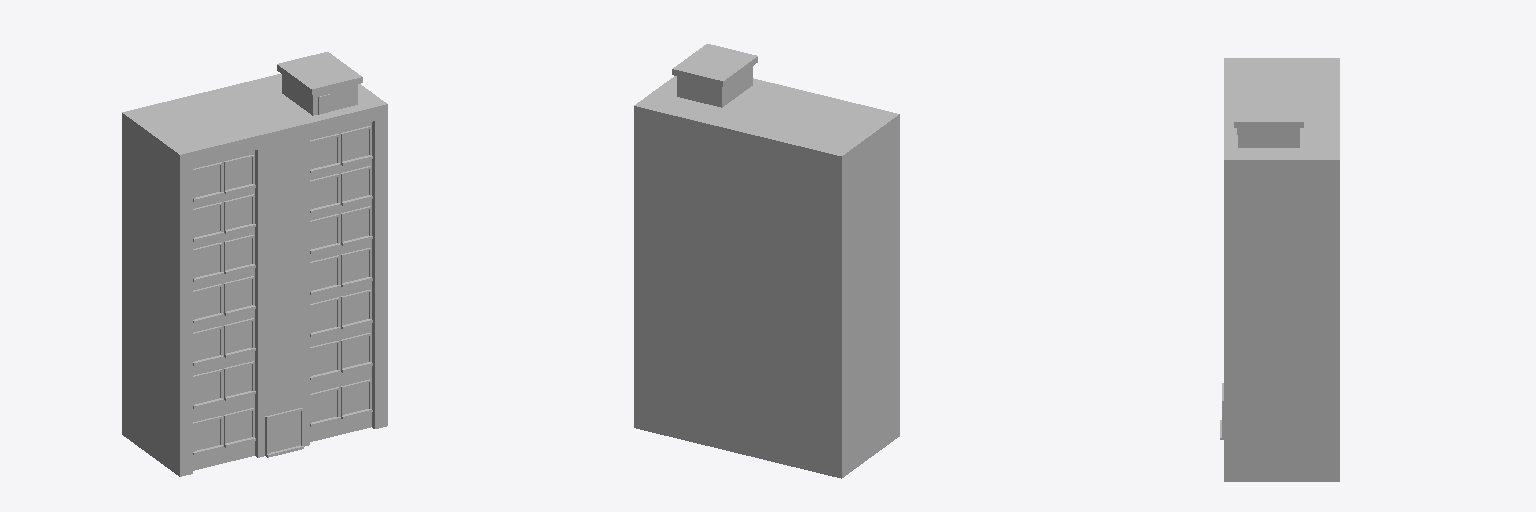
Rendered from building3.obj.
3 renders of one model, left to right at view 1: azimuth 30°, elevation 25°; view 2: azimuth 150°, elevation 25°; view 3: azimuth 270°, elevation 25°, orthographic.
Visible parts, largest first — view 1: texture_finish_now:pCube239; view 2: texture_finish_now:pCube239; view 3: texture_finish_now:pCube239.
Part boxes in pixels (left/top/right/bottom): texture_finish_now:pCube239: left=122, top=52, right=387, bottom=476; texture_finish_now:pCube239: left=634, top=44, right=899, bottom=478; texture_finish_now:pCube239: left=1220, top=58, right=1339, bottom=481.
Bounding box in the file's own units: 6.65 × 10.72 × 3.34.